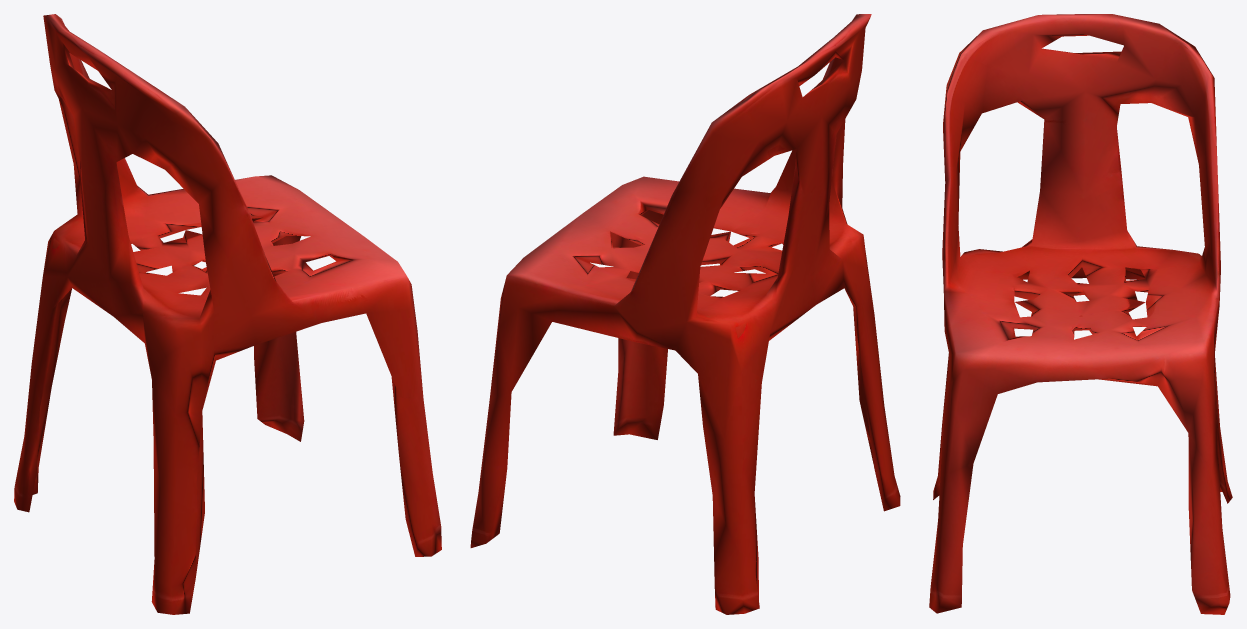
Rendered from Chair.fbx.
3 renders of one model, left to right at view 1: azimuth 30°, elevation 25°; view 2: azimuth 150°, elevation 25°; view 3: azimuth 270°, elevation 25°, orthographic. The views are drawn at different scales.
Parts seen in each view (by area): view 1: tripo_node_2d76fa99; view 2: tripo_node_2d76fa99; view 3: tripo_node_2d76fa99.
Boxes of the visible parts, box(x1,y1,x2,y2) form: tripo_node_2d76fa99: box(14, 14, 441, 614); tripo_node_2d76fa99: box(470, 14, 900, 614); tripo_node_2d76fa99: box(929, 14, 1232, 614).
Bounding box in the file's own units: 0.5832 × 0.9931 × 0.5757.
1 material, 1 textured.
